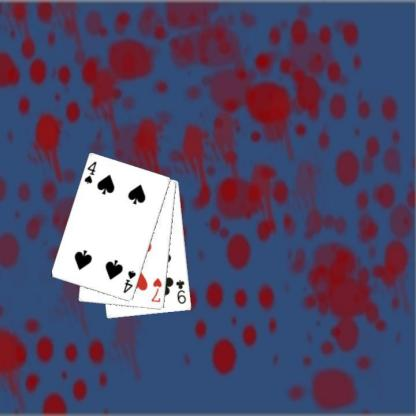4S: (121, 268, 137, 295), (82, 159, 98, 185)
7H: (148, 276, 163, 304)
9C: (174, 277, 188, 305)
